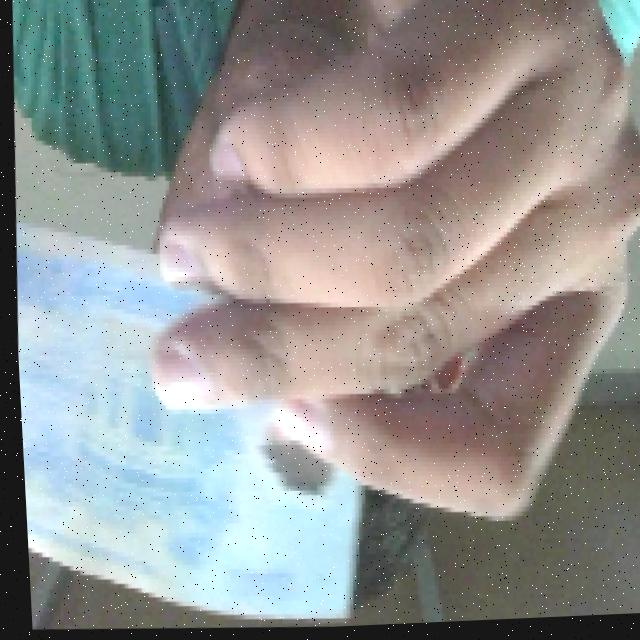20 000 VND: (8, 187, 377, 640)
